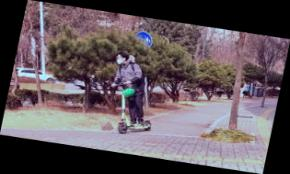nonhelmet: (99, 51, 170, 139)
